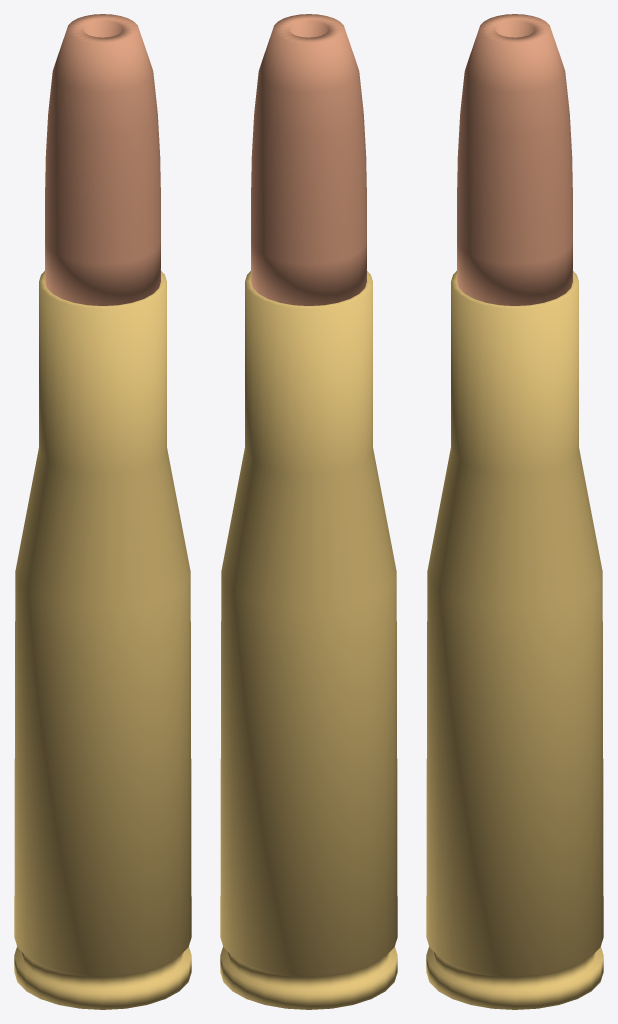
The picture shows the model from 3 angles, left to right: view 1: azimuth 30°, elevation 25°; view 2: azimuth 150°, elevation 25°; view 3: azimuth 270°, elevation 25°; orthographic projection.
Parts seen in each view (by area): view 1: vaina, bala_hueca; view 2: vaina, bala_hueca; view 3: vaina, bala_hueca.
Part boxes in pixels (x1,y1,x2,y2): vaina: [14, 271, 191, 1009]; bala_hueca: [45, 14, 160, 305]; vaina: [220, 271, 397, 1009]; bala_hueca: [251, 14, 366, 305]; vaina: [426, 271, 603, 1009]; bala_hueca: [457, 14, 572, 305].
Bounding box in the file's own units: 0.0119 × 0.0699 × 0.0119.
